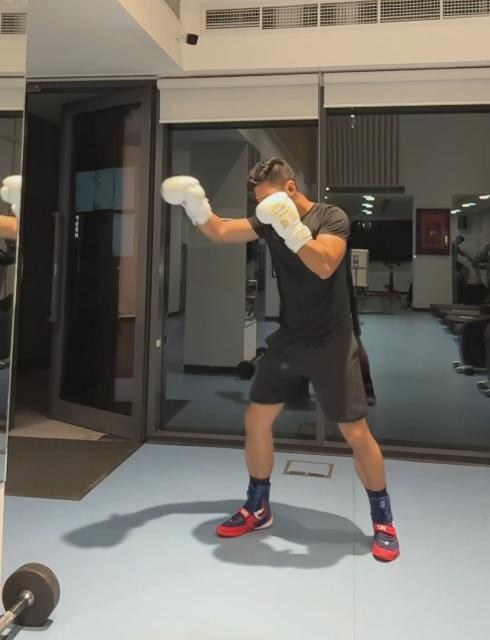punch: (164, 159, 400, 563)
